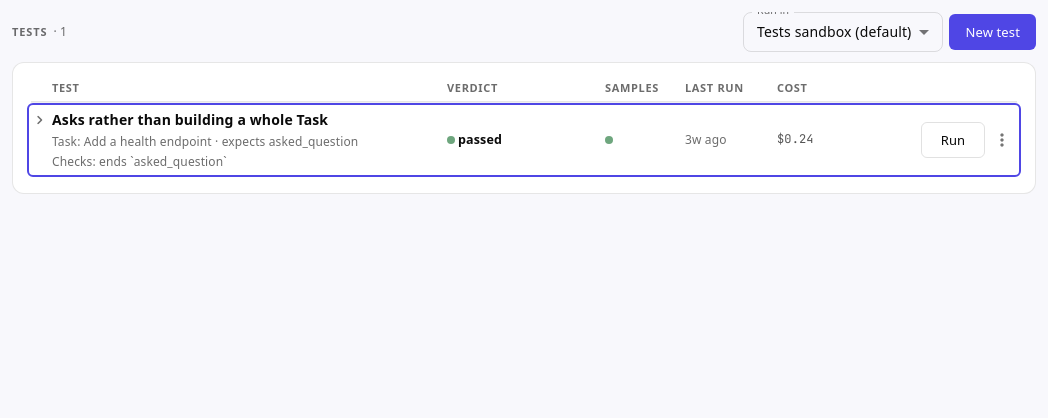
TestsTabContent › opens and closes a row from the keyboard and from its menu
Press Enter
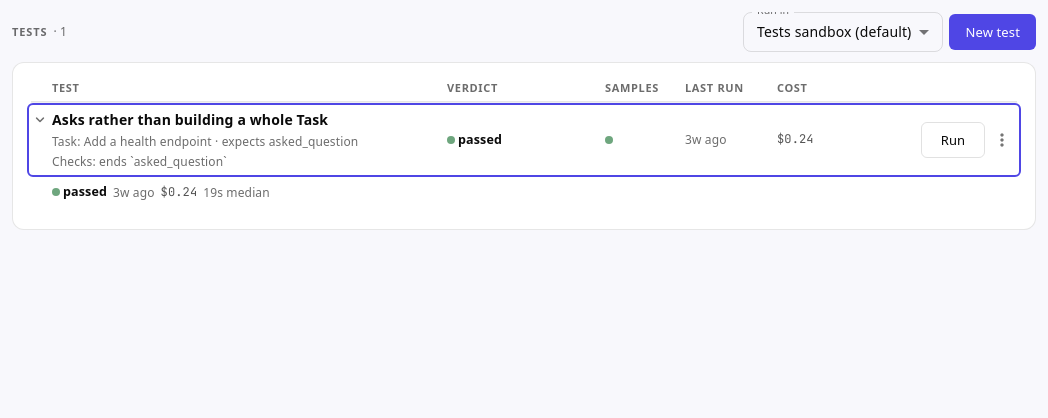
expect the text "19s median" is shown: met, box [203,183,270,202]
Click the button named "More actions for Asks rather than building a whole Task".
click(1002, 140)  # box [987,125,1017,155]
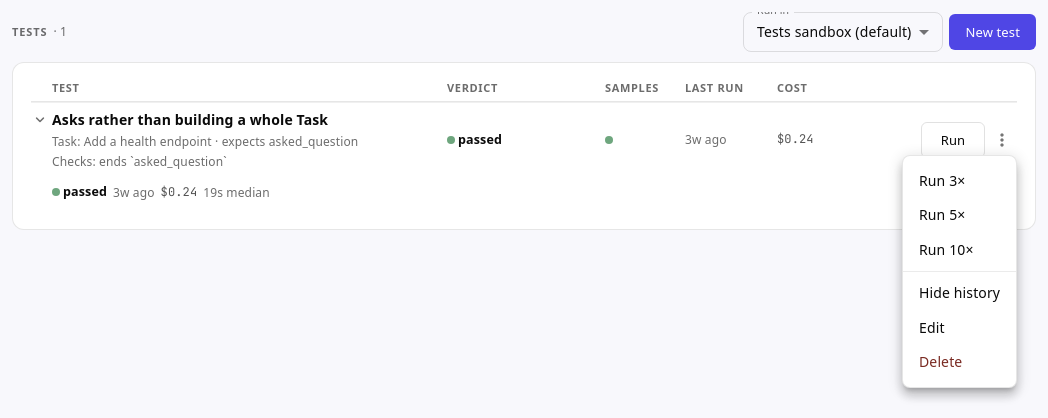
Click the menu item "Hide history".
click(960, 293)  # box [919,283,1000,302]
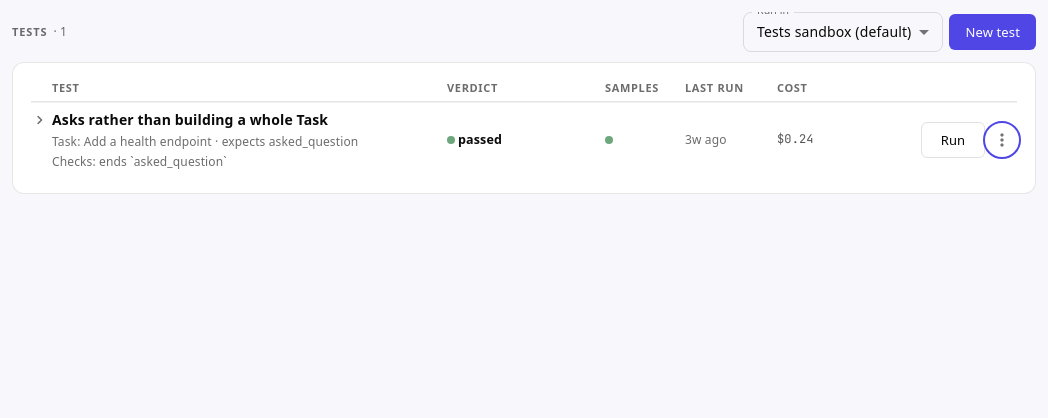
expect the text "19s median" is gone: met
Click the button named "More actions for Asks rather than building a whole Task".
click(1002, 140)  # box [987,125,1017,155]
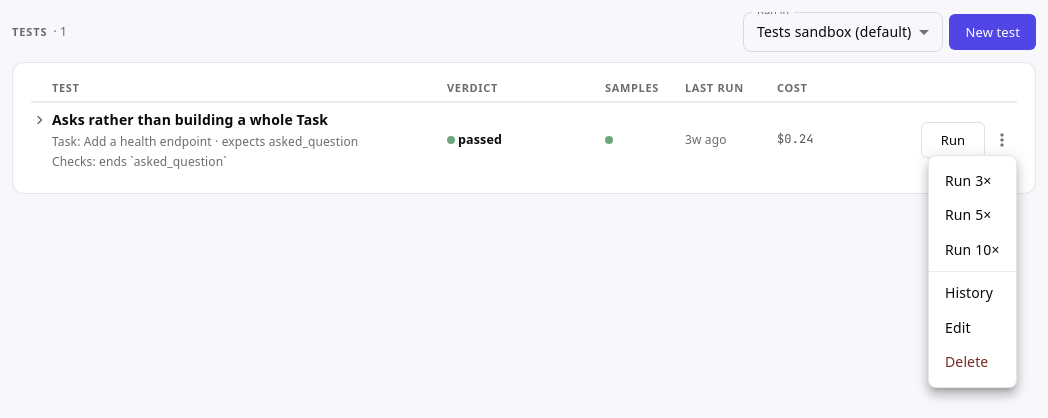
Click the menu item "History".
click(969, 293)  # box [945,283,993,302]
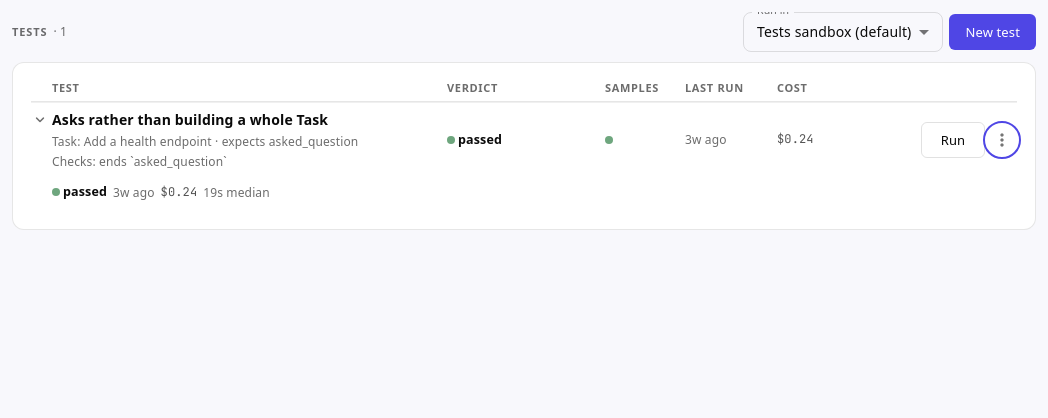
expect the text "19s median" is shown: met, box [203,183,270,202]
